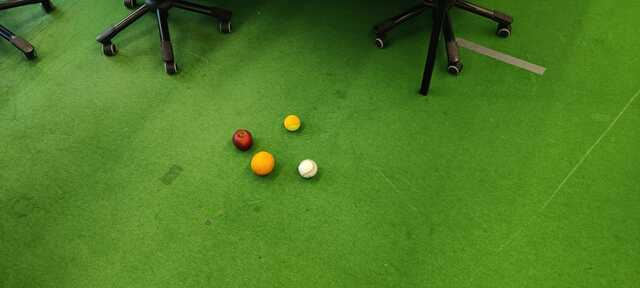013_apple: (232, 128, 254, 150)
017_orange: (250, 151, 276, 178)
055_baseball: (297, 158, 318, 179)
056_tennis_ball: (283, 114, 302, 132)
